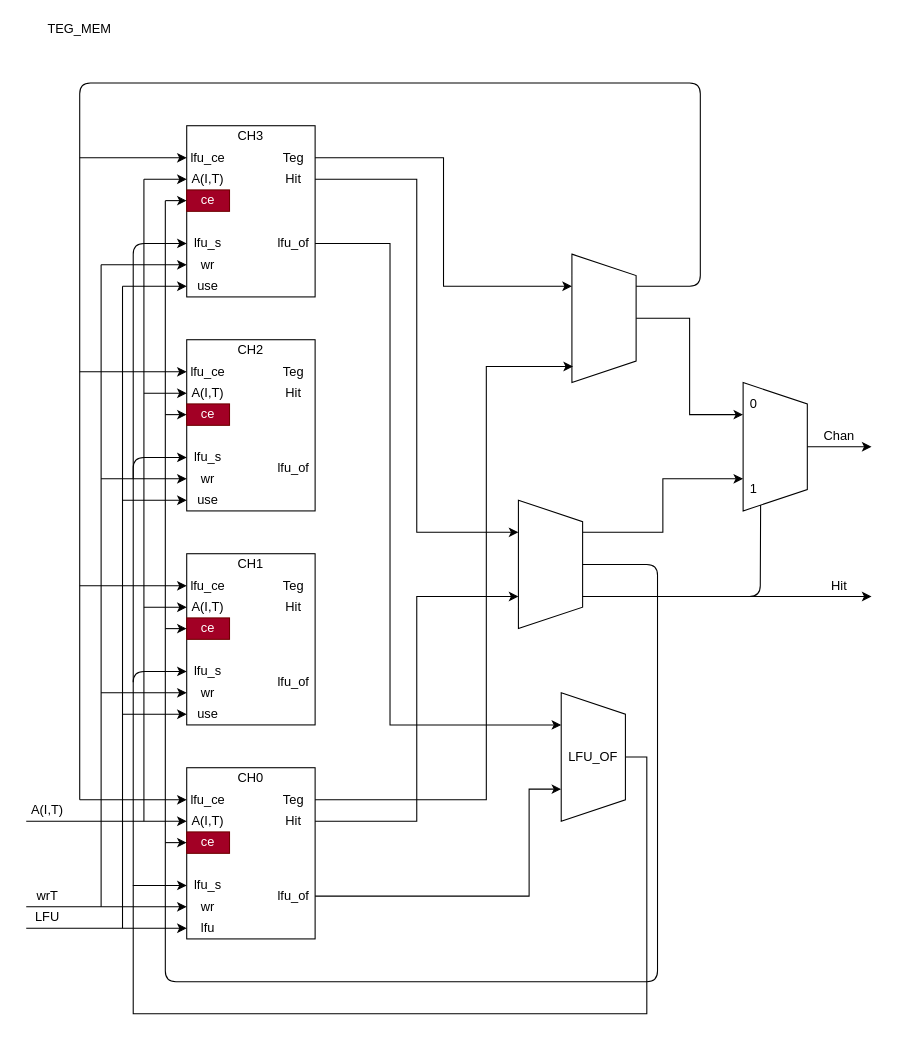
Image size: 899x1041. Some labels were removed from this diagram. The box of each missing label's shape, as (x1, y1, x2, y2) in pixels:
HIT_KS: (517, 499, 583, 629)
LFU_KS: (571, 253, 636, 383)
MUX: (742, 381, 807, 511)
